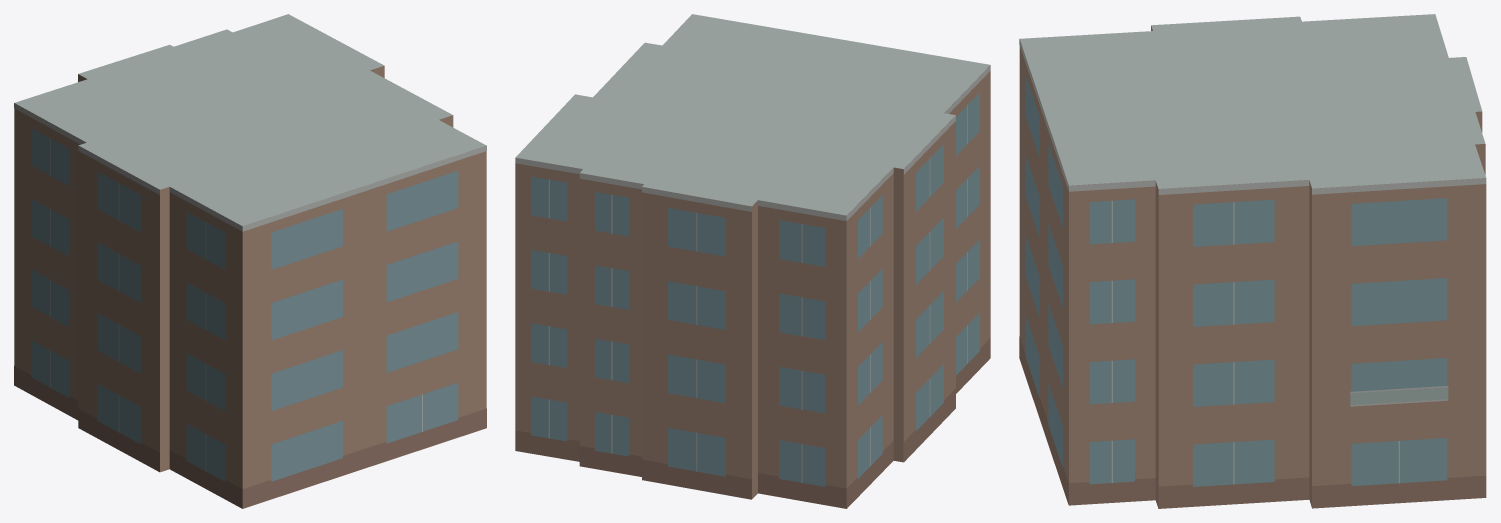
File: survey-upis-32465684.glb
3 renders of one model, left to right at view 1: azimuth 30°, elevation 25°; view 2: azimuth 150°, elevation 25°; view 3: azimuth 270°, elevation 25°, orthographic. The views are drawn at different scales.
Visible parts, largest first — view 1: survey-upis-32465684.tmp; view 2: survey-upis-32465684.tmp; view 3: survey-upis-32465684.tmp.
Boxes of the visible parts, x1,y1,x2,y2 form: survey-upis-32465684.tmp: [14, 14, 486, 508]; survey-upis-32465684.tmp: [515, 14, 990, 508]; survey-upis-32465684.tmp: [1019, 14, 1486, 508].
Bounding box in the file's own units: 14.97 × 12.75 × 16.87.
